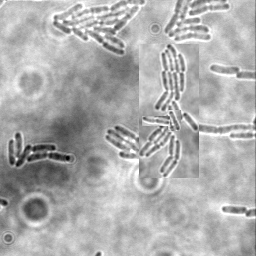Dividing: (200, 114, 255, 133), (221, 204, 248, 215), (142, 116, 170, 126)
Microcolony: (139, 44, 199, 178), (51, 1, 147, 56), (162, 1, 231, 44), (8, 130, 72, 167), (106, 124, 139, 160), (208, 63, 240, 74)
Rod: (168, 110, 181, 131)
